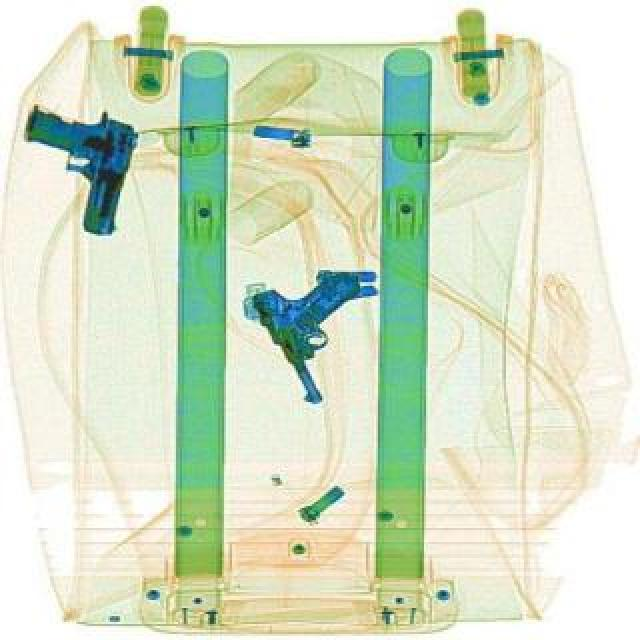gun: (246, 260, 394, 408), (2, 96, 138, 236)
